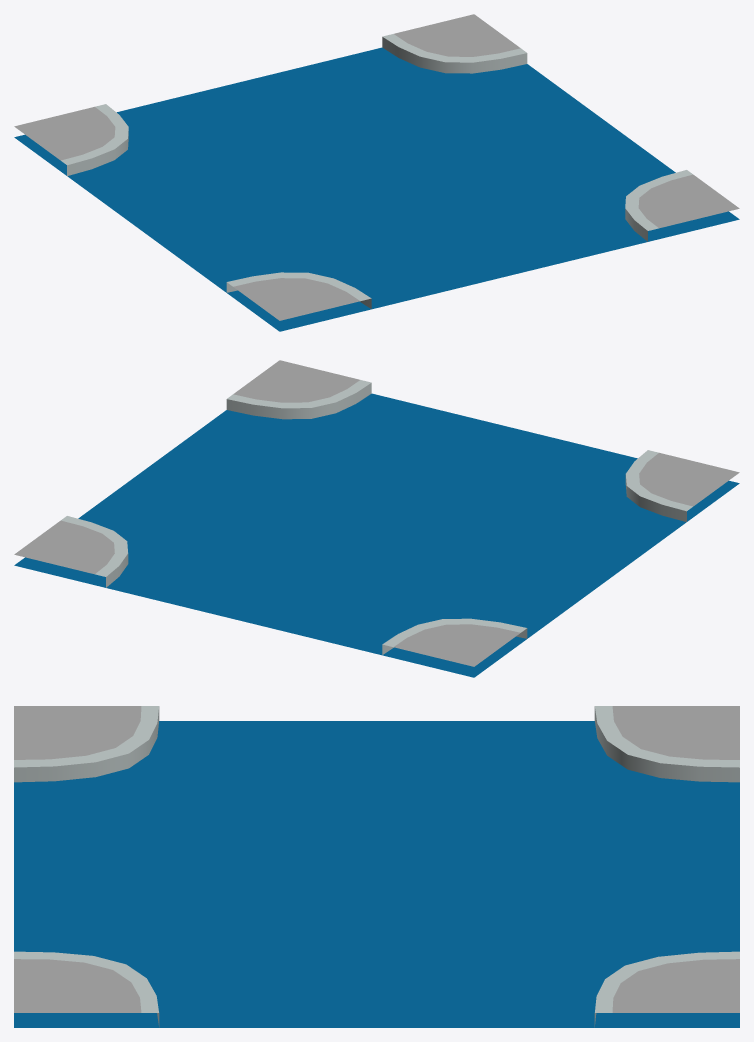
Rendered from Intersection_Wide.fbx.
3 renders of one model, top to bottom at view 1: azimuth 30°, elevation 25°; view 2: azimuth 150°, elevation 25°; view 3: azimuth 270°, elevation 25°, orthographic. The views are drawn at different scales.
Visible parts, largest first — view 1: Intersection_Wide; view 2: Intersection_Wide; view 3: Intersection_Wide.
Boxes of the visible parts, x1=… form: Intersection_Wide: x1=14, y1=14, x2=739, y2=331; Intersection_Wide: x1=14, y1=360, x2=739, y2=677; Intersection_Wide: x1=14, y1=706, x2=739, y2=1027.
Size of the model in its own units: 1000 by 22.59 by 1000.
